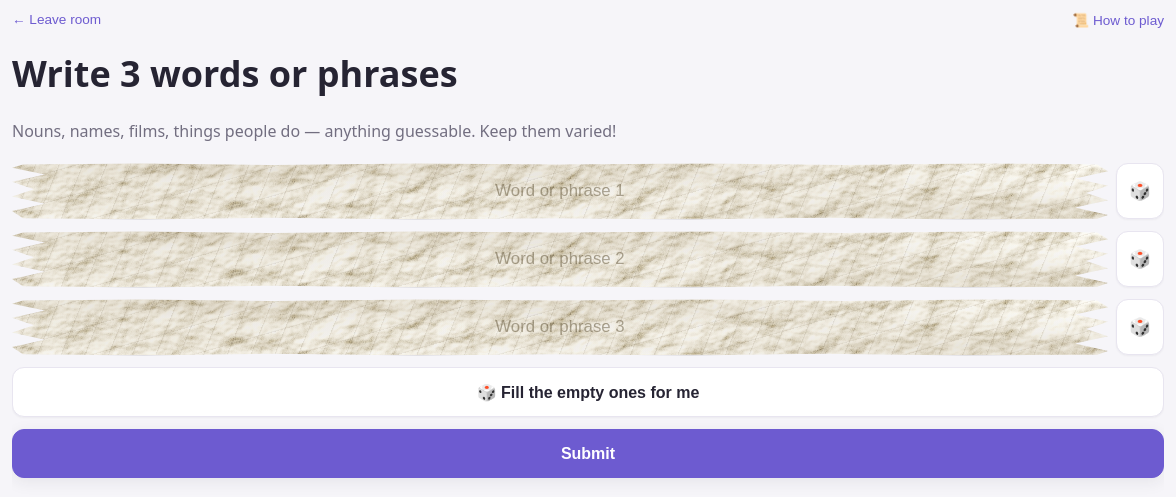
Scenario: fill-the-rest keeps what you typed and only asks for the empty slots
This screenshot has width=1176, height=497.
Type "Sushi" into the field with placeholder "Word or phrase 1" at (560, 191), box [12,168,1108,215]
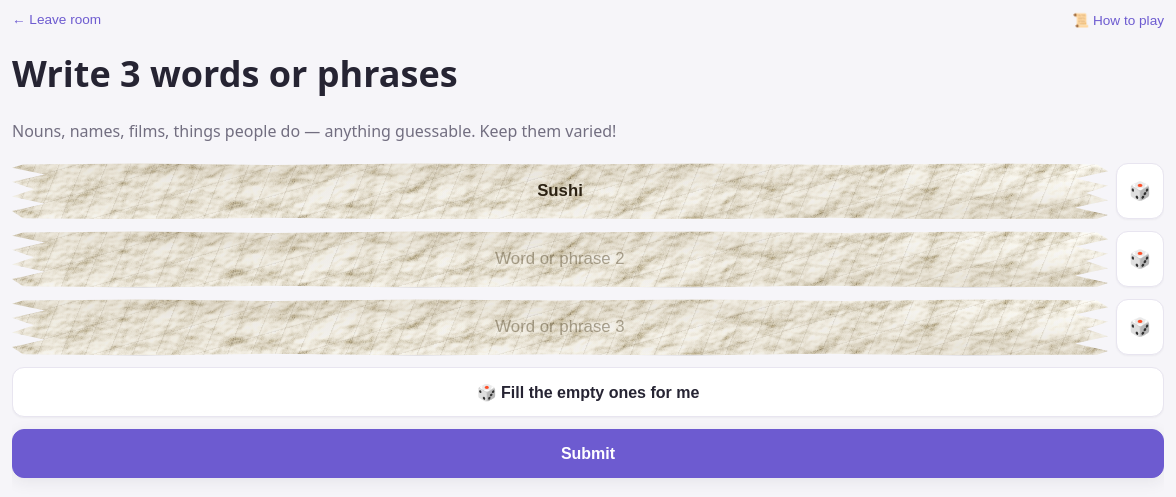
Click the button "🎲 Fill the empty ones for me" at (588, 392), box [12,367,1164,417]
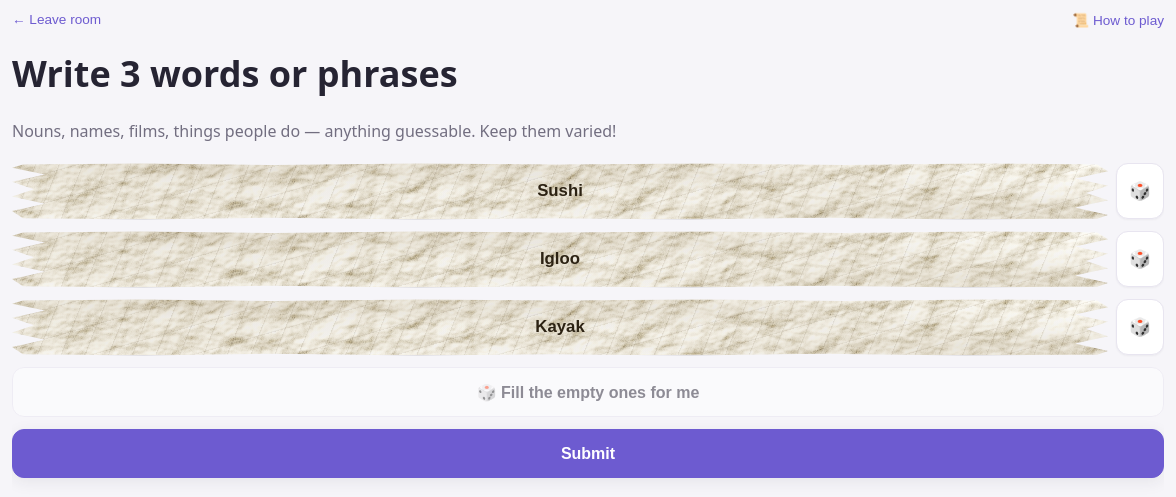
Expected: the 2nd field with placeholder "Word or phrase 2" holds "Igloo", [12,236,1108,283]
Expected: the 3rd field with placeholder "Word or phrase 3" holds "Kayak", [12,304,1108,351]
